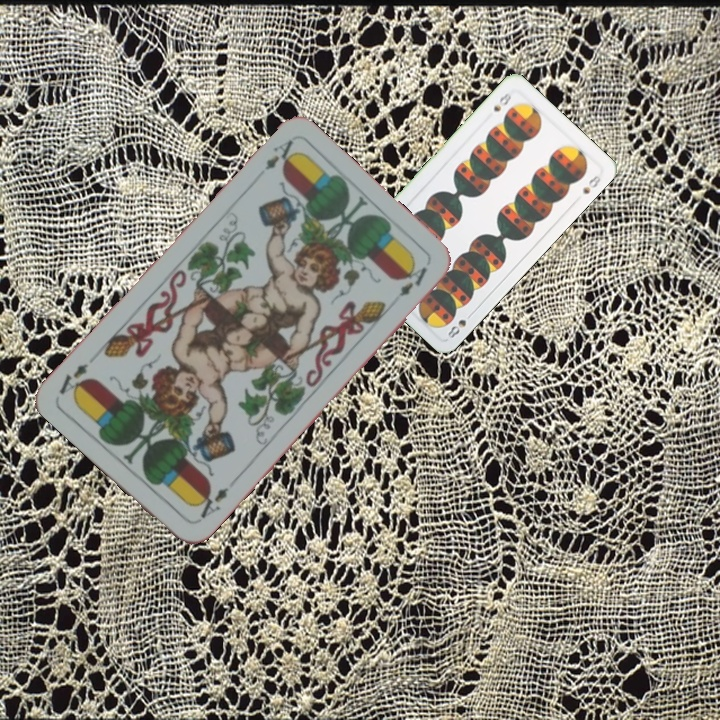EA: (190, 483, 232, 522), (261, 135, 300, 173)
S8: (443, 308, 476, 341), (489, 88, 514, 114)
